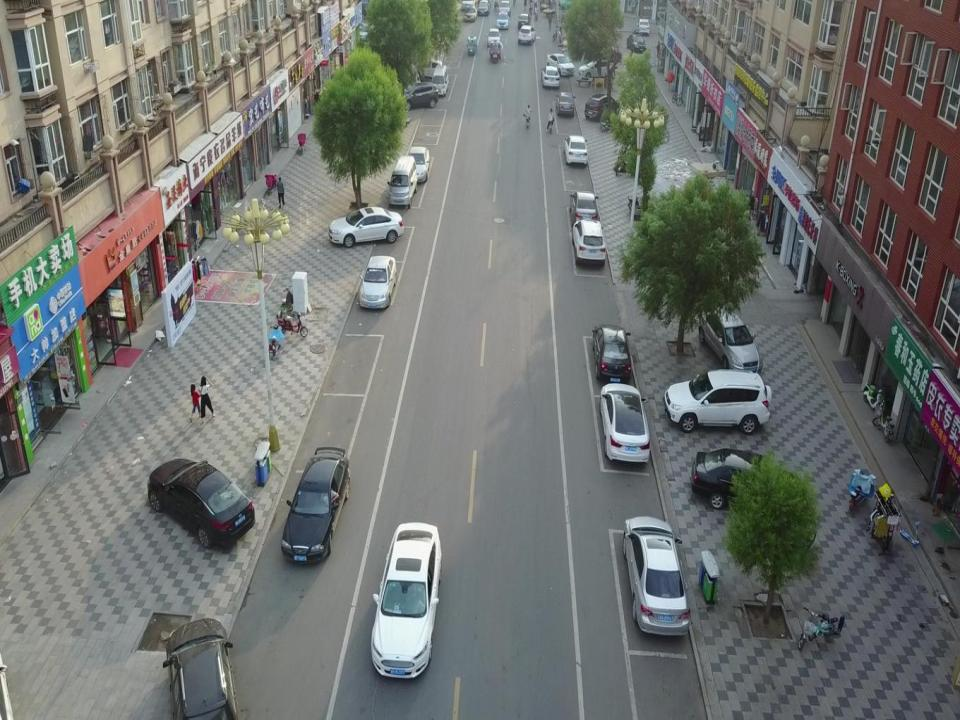car: (371, 520, 441, 680), (146, 456, 254, 550), (280, 444, 352, 568), (624, 516, 690, 638), (166, 615, 240, 720), (665, 369, 773, 433), (692, 450, 790, 512), (698, 304, 762, 374), (599, 382, 650, 467), (328, 205, 404, 245), (592, 326, 632, 386), (360, 254, 397, 309), (572, 219, 608, 264), (390, 155, 418, 205), (568, 190, 599, 225), (399, 83, 436, 108), (407, 146, 431, 183), (578, 59, 614, 82), (564, 133, 587, 164), (546, 52, 575, 74), (412, 56, 441, 77), (431, 66, 449, 94), (558, 92, 576, 116), (626, 33, 647, 52), (541, 65, 558, 88), (517, 25, 536, 45), (486, 28, 501, 47), (490, 39, 501, 63), (463, 4, 477, 22), (496, 12, 510, 28), (477, 0, 491, 16), (638, 17, 650, 35), (467, 35, 477, 56), (518, 13, 530, 27), (498, 1, 510, 12)
